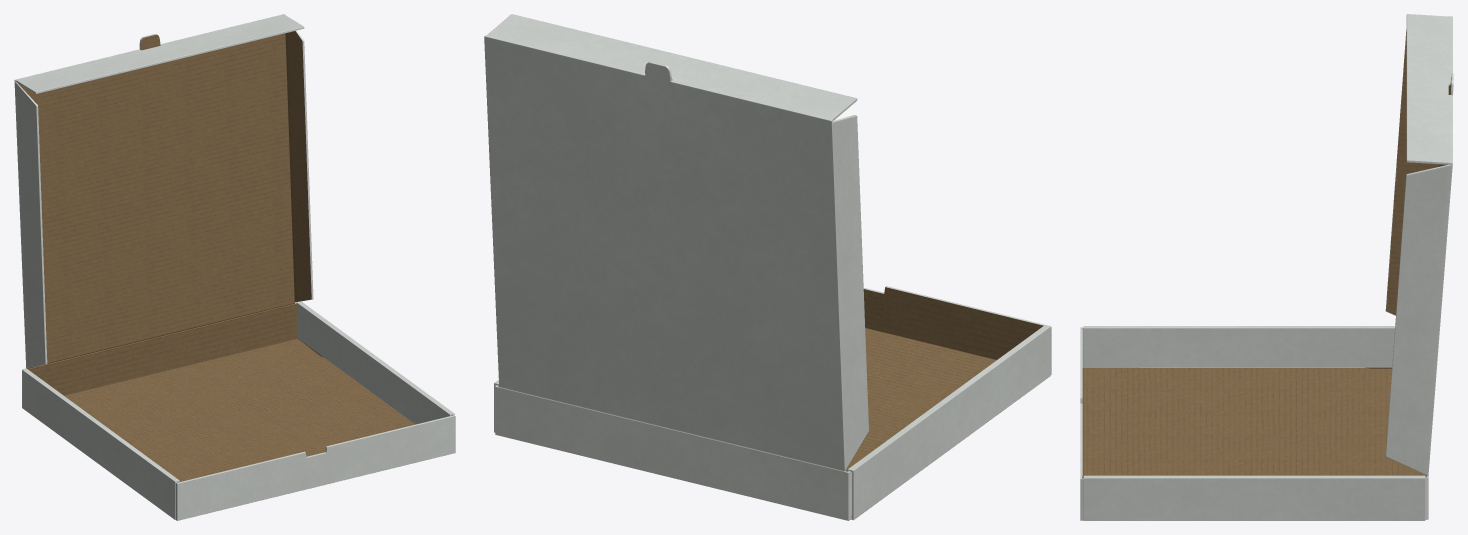
3 views of the same model, side by side, from view 1: azimuth 30°, elevation 25°; view 2: azimuth 150°, elevation 25°; view 3: azimuth 270°, elevation 25° (orthographic). The views are drawn at different scales.
Parts seen in each view (by area): view 1: half_open_pizza_box; view 2: half_open_pizza_box; view 3: half_open_pizza_box.
Part boxes in pixels (left/top/right/bottom): half_open_pizza_box: left=14, top=14, right=455, bottom=520; half_open_pizza_box: left=484, top=14, right=1051, bottom=520; half_open_pizza_box: left=1080, top=14, right=1453, bottom=520.
Size of the model in its own units: 37.56 by 42.3 by 38.94.
Materials: 1 (1 with a texture image).
